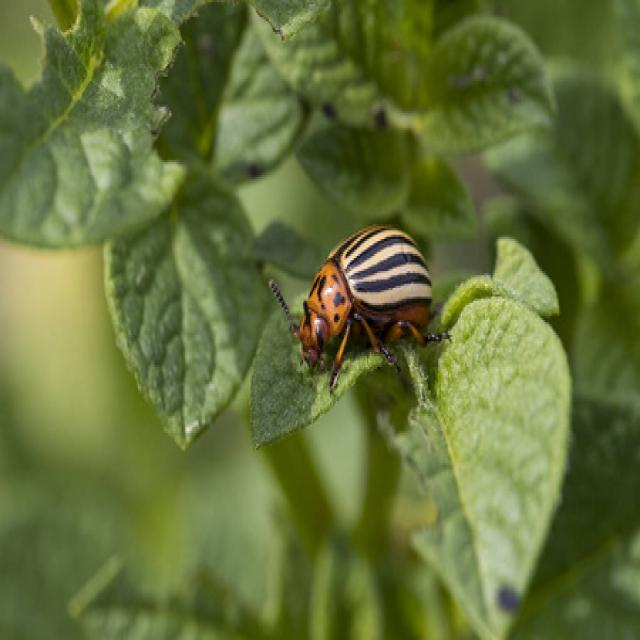ShuCaiHuaBanChong-Grown-: (288, 205, 487, 423)
